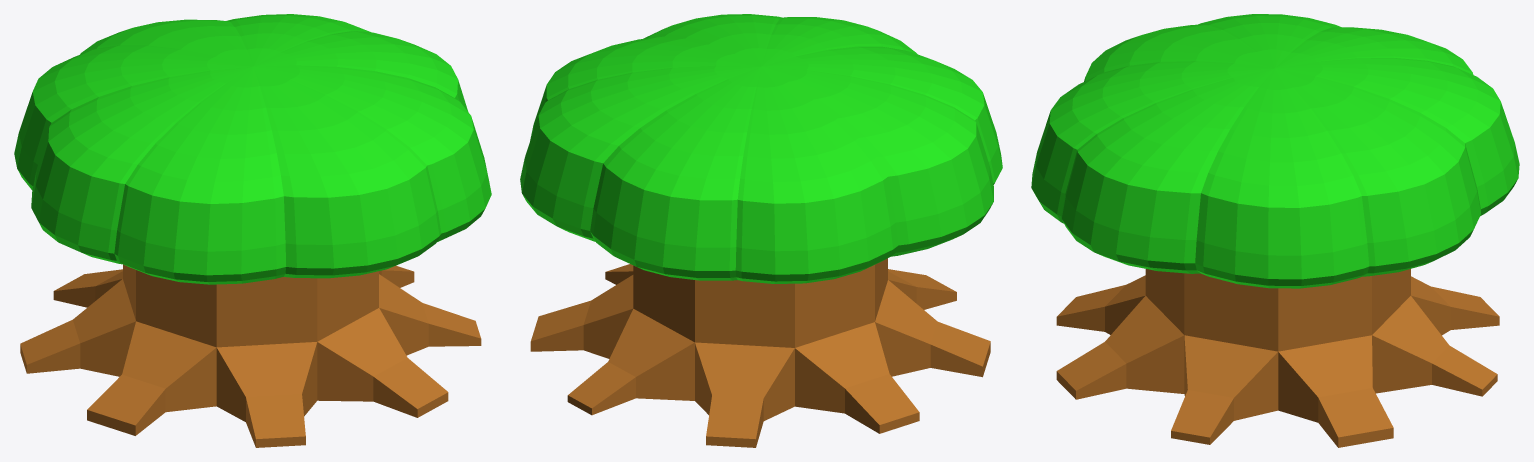
File: tree.fbx
3 renders of one model, left to right at view 1: azimuth 30°, elevation 25°; view 2: azimuth 150°, elevation 25°; view 3: azimuth 270°, elevation 25°, orthographic.
Parts seen in each view (by area): view 1: Leaves, Trunk; view 2: Leaves, Trunk; view 3: Leaves, Trunk.
Part boxes in pixels (left/top/right/bottom): Leaves: left=14, top=14, right=491, bottom=284; Trunk: left=20, top=264, right=481, bottom=447; Leaves: left=520, top=14, right=1002, bottom=283; Trunk: left=530, top=258, right=990, bottom=447; Leaves: left=1031, top=14, right=1519, bottom=288; Trunk: left=1056, top=269, right=1499, bottom=447.
Size of the model in its own units: 287 by 186 by 287.
